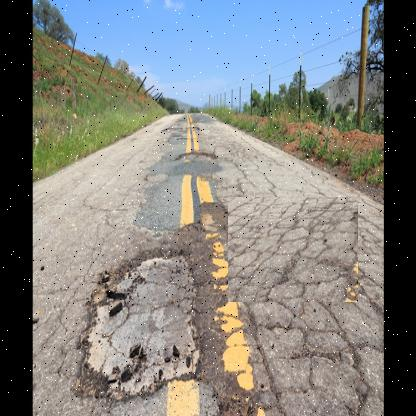crack: (227, 197, 358, 303)
damage: (63, 237, 214, 415)
